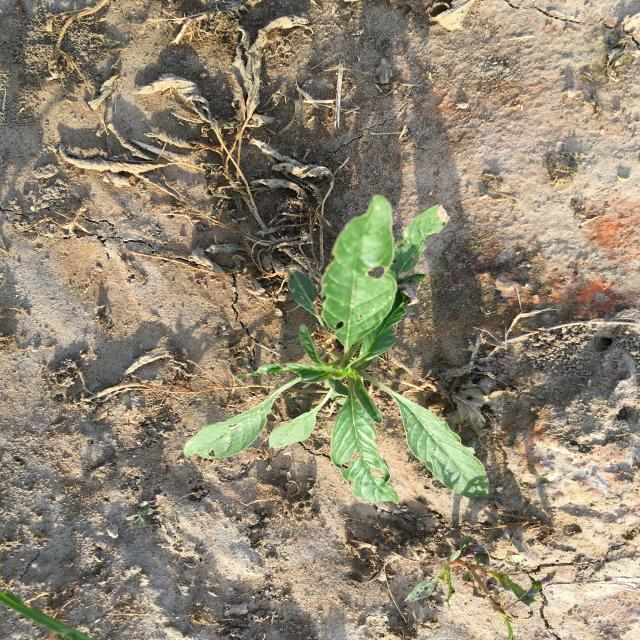Waterhemp: (182, 195, 490, 504)
